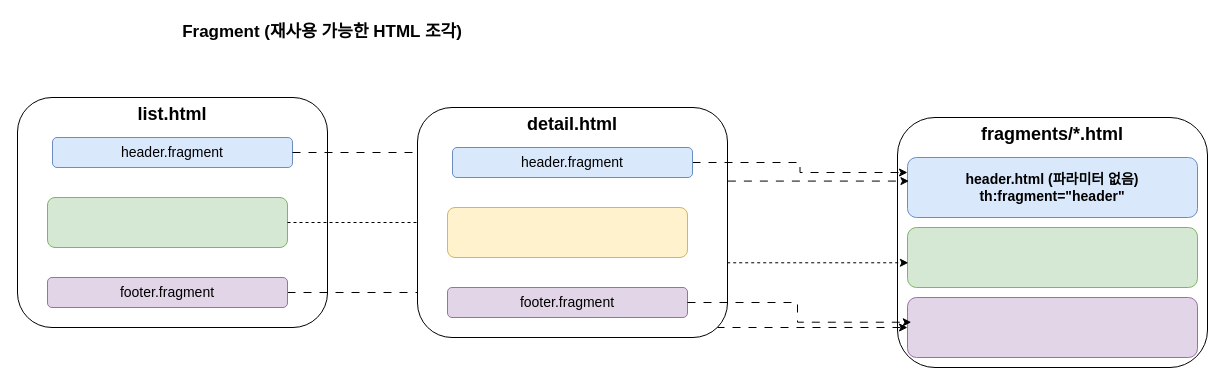
The diagram is 1225 pixels wide and 385 high, and some of its shapes have lost their labels. Here are the shapes that lost their labels. From the top down, the centre of each, then its label:
(x=167, y=222): bookCard(book) fragment * N
(x=567, y=232): (본문: 책 상세 + 리뷰 + 폼)
(x=1052, y=257): book-card.html (파라미터 : book) th:fragment="bookCard(book)"
(x=1052, y=327): footer.html (파라미터 없음) th:fragment=" footer "
